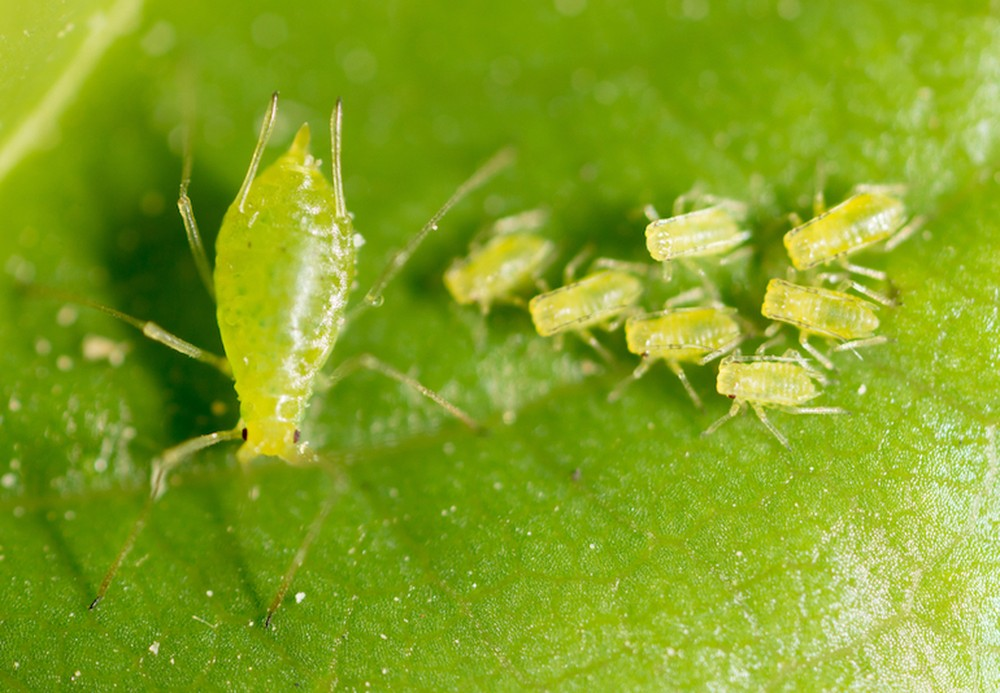Pulgon: (104, 99, 486, 485), (774, 169, 944, 286), (616, 279, 753, 398), (714, 343, 854, 458), (758, 263, 903, 373), (633, 176, 775, 283), (435, 200, 577, 304), (528, 245, 648, 354)
